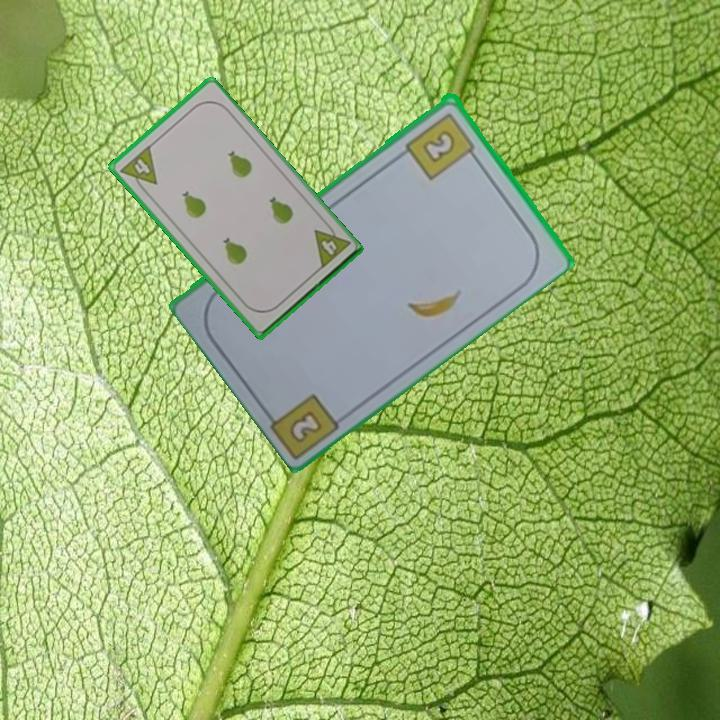2b: (402, 108, 481, 182), (285, 406, 326, 446)
4p: (116, 142, 160, 196), (310, 218, 353, 272)
